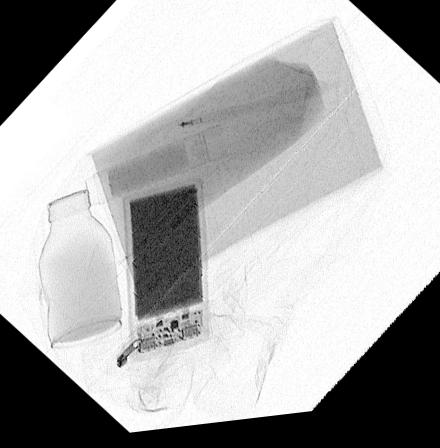Powerbank: (122, 182, 208, 366)
